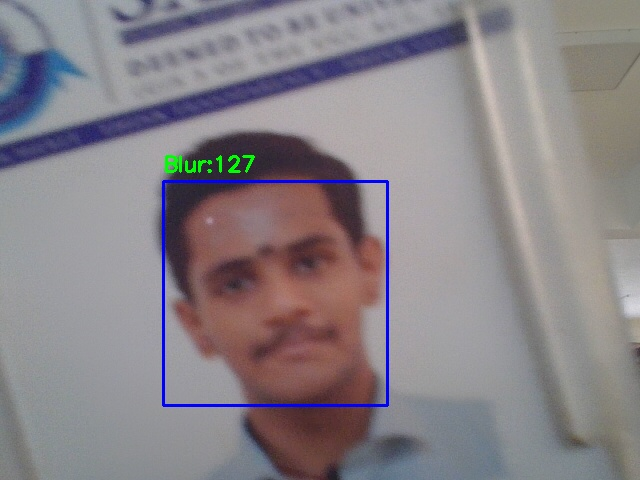fake: (163, 181, 387, 405)
